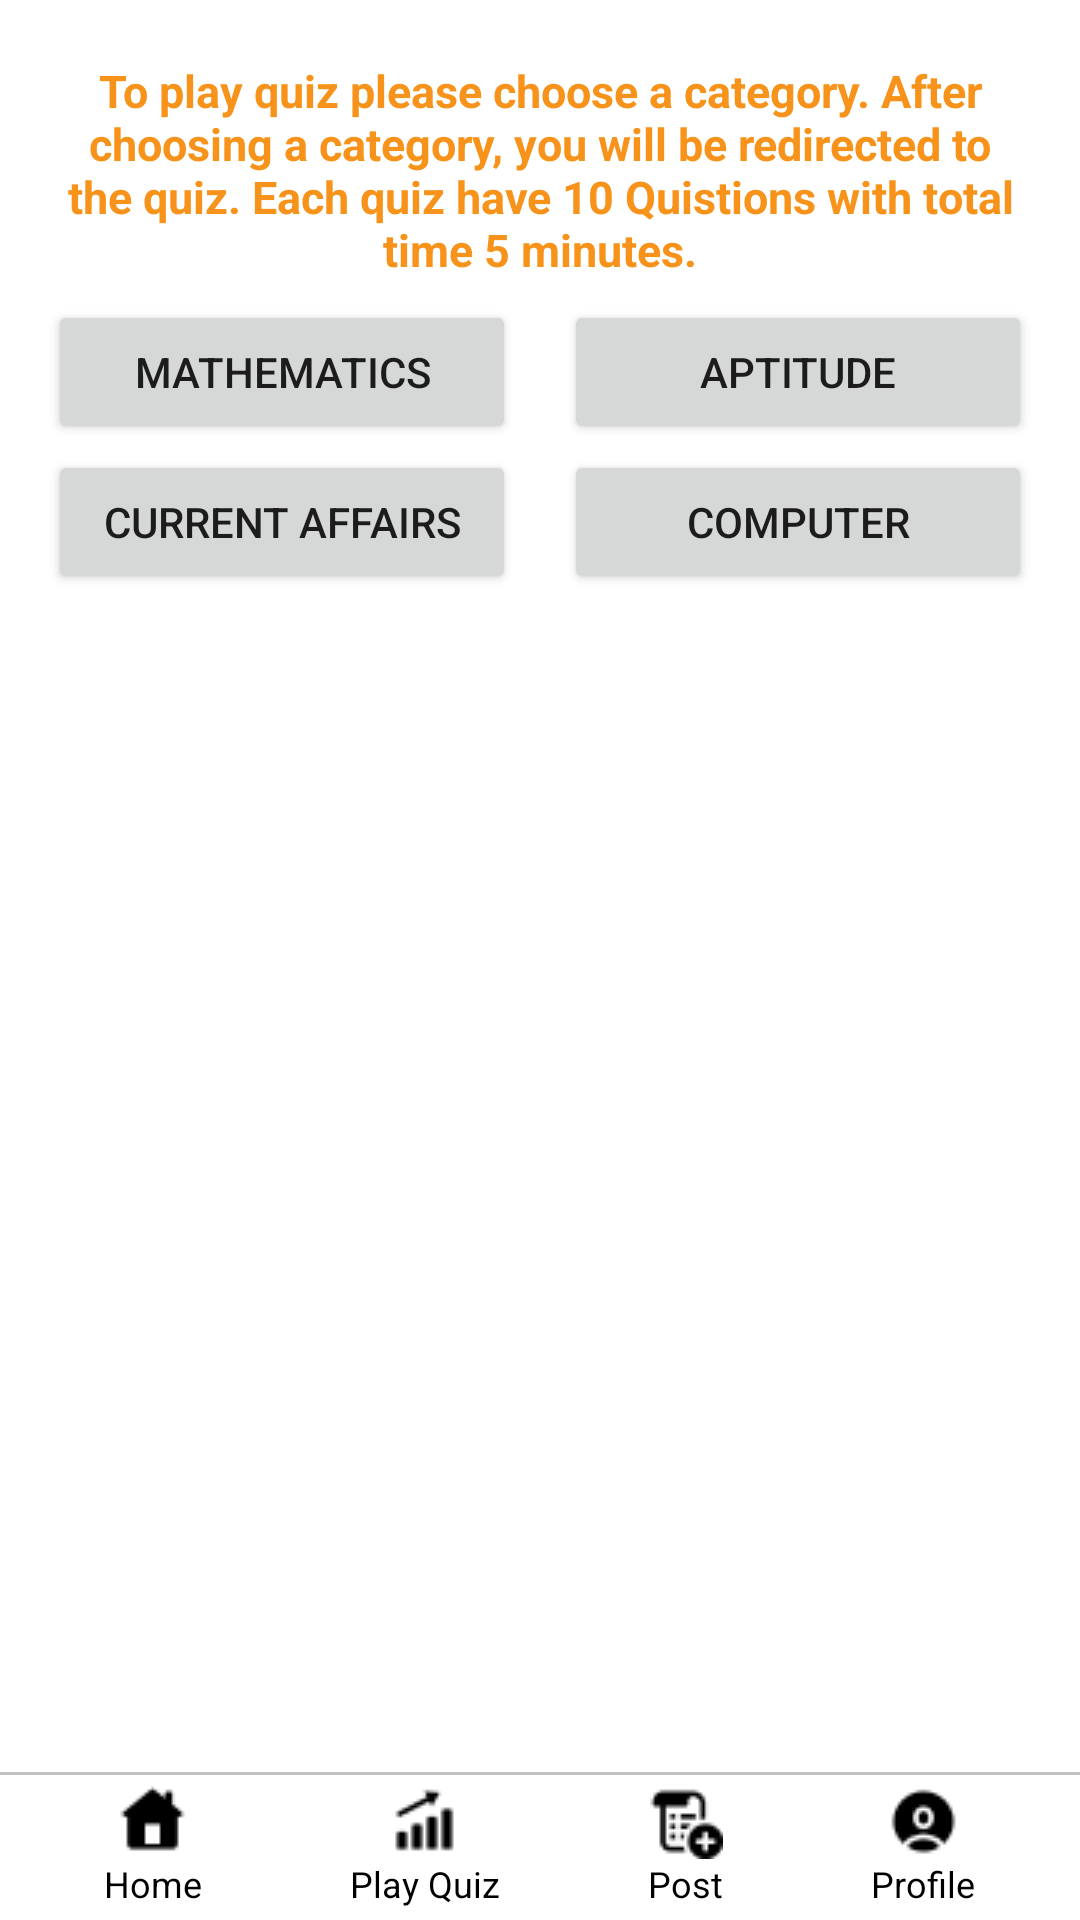

Named icons in this screenshot (1080*1920) and their bounding boxes, {"x1": x1, "y1": y1, "x2": x2, "y2": y2}:
trends: {"x1": 395, "y1": 1789, "x2": 454, "y2": 1851}
